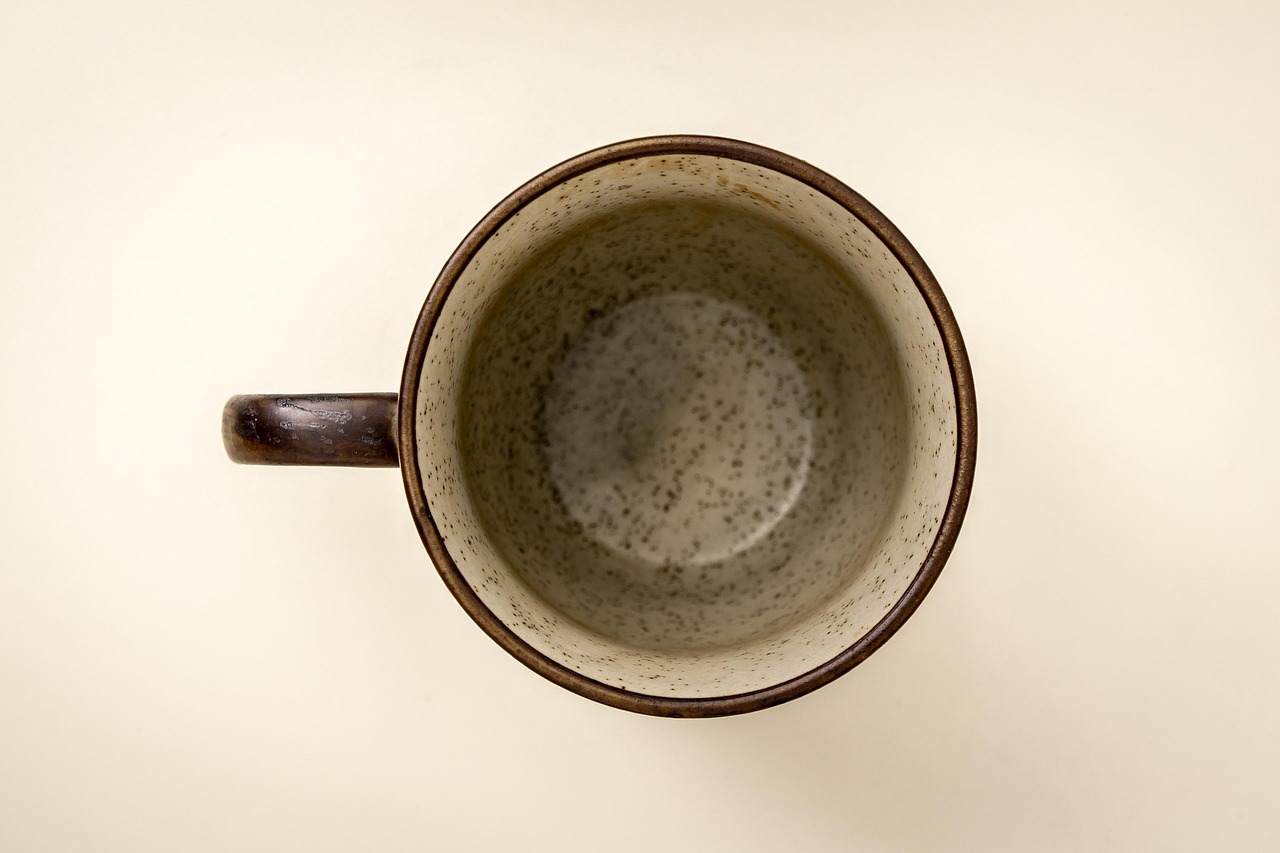mug: (158, 95, 1022, 766)
